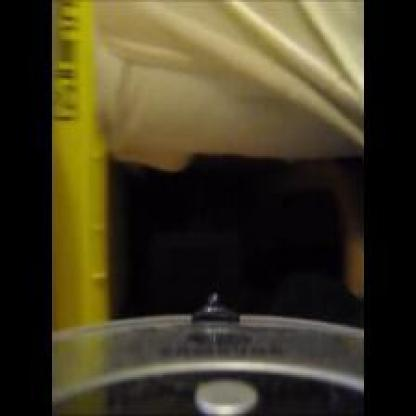other: (56, 6, 109, 308)
